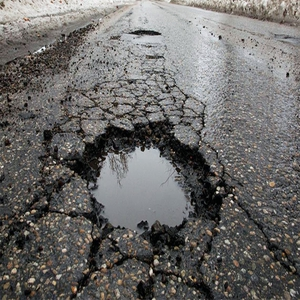pothole: (70, 119, 225, 249), (132, 29, 166, 39)
